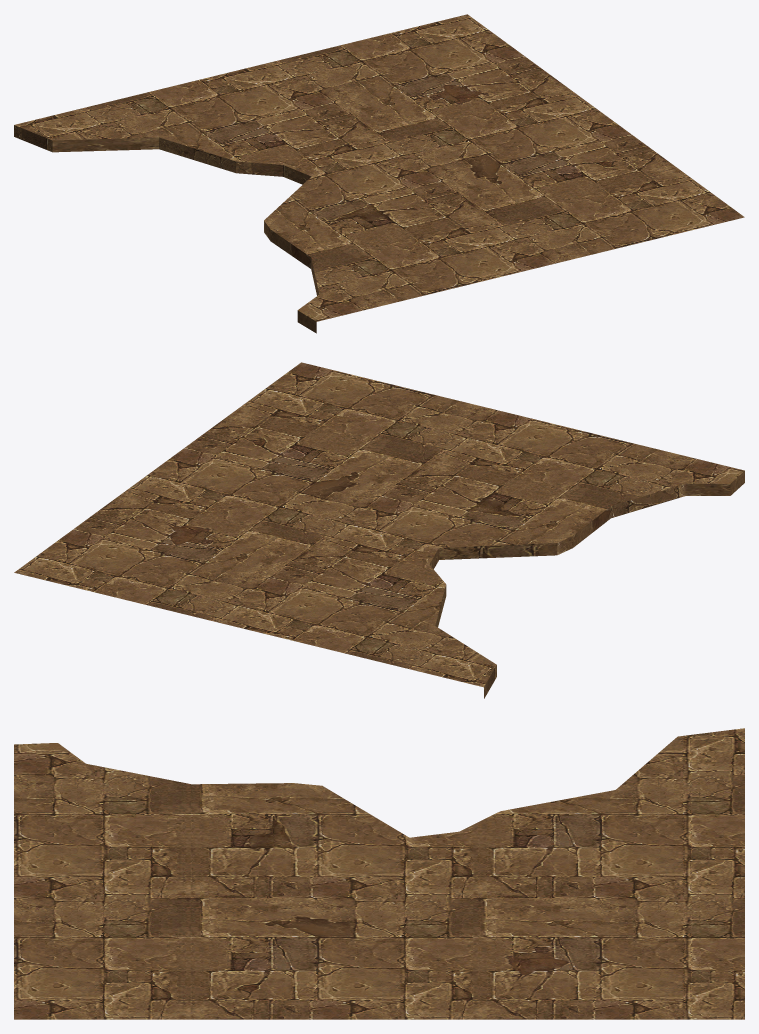
The model's file is Scene_R_dimian_01.FBX.
The picture shows the model from 3 angles, top to bottom: view 1: azimuth 30°, elevation 25°; view 2: azimuth 150°, elevation 25°; view 3: azimuth 270°, elevation 25°; orthographic projection. The views are drawn at different scales.
Parts seen in each view (by area): view 1: Scene_R_dimian_01; view 2: Scene_R_dimian_01; view 3: Scene_R_dimian_01.
Part boxes in pixels (x1,y1,x2,y2): Scene_R_dimian_01: (14,14,744,333); Scene_R_dimian_01: (14,362,744,698); Scene_R_dimian_01: (14,728,744,1019).
Size of the model in its own units: 18.93 by 0.4726 by 20.06.
